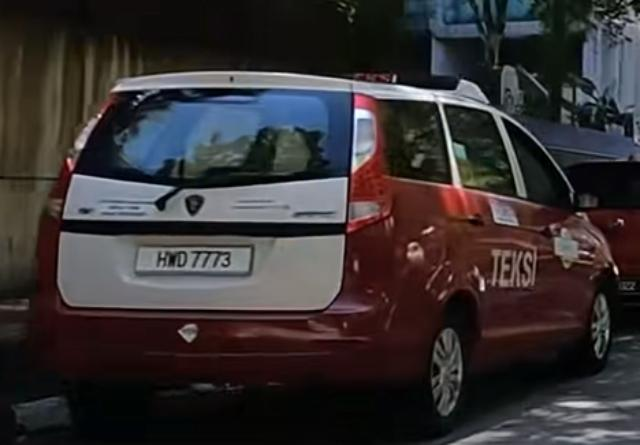License_Plate: (134, 245, 254, 277)
car: (26, 69, 622, 434)
